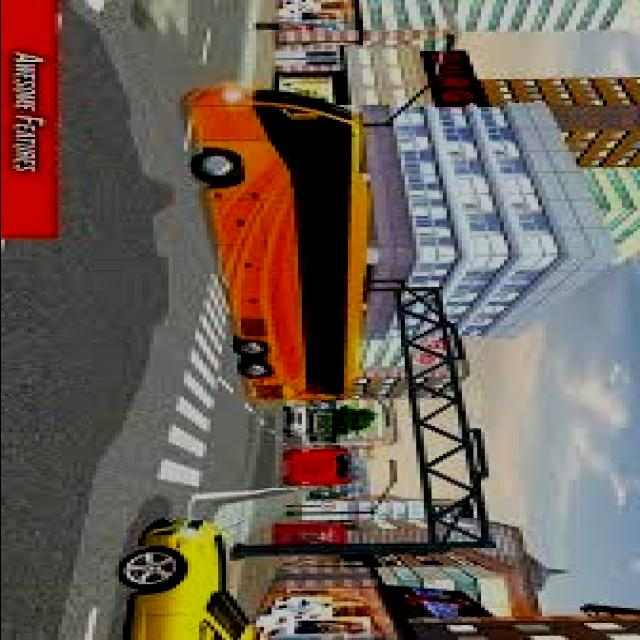bus: (179, 81, 367, 402), (267, 443, 374, 491)
